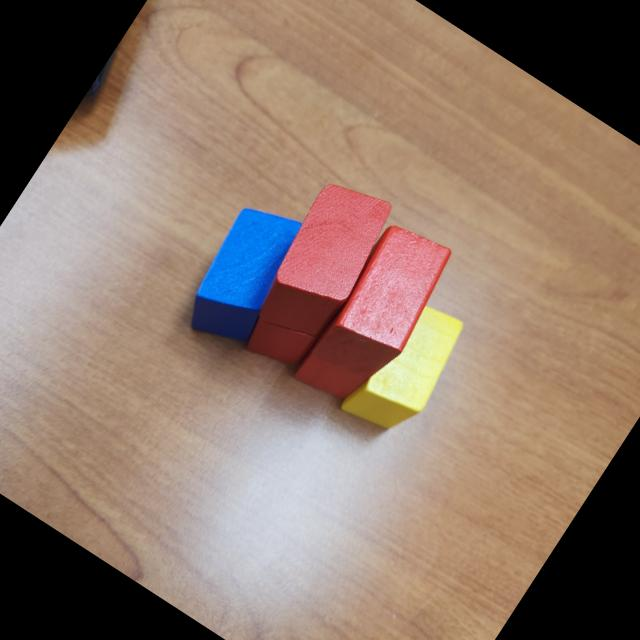blue: (170, 191, 318, 360)
red: (242, 166, 404, 354), (304, 212, 462, 394), (239, 301, 321, 380), (290, 342, 368, 412)
yellow: (338, 291, 474, 448)
